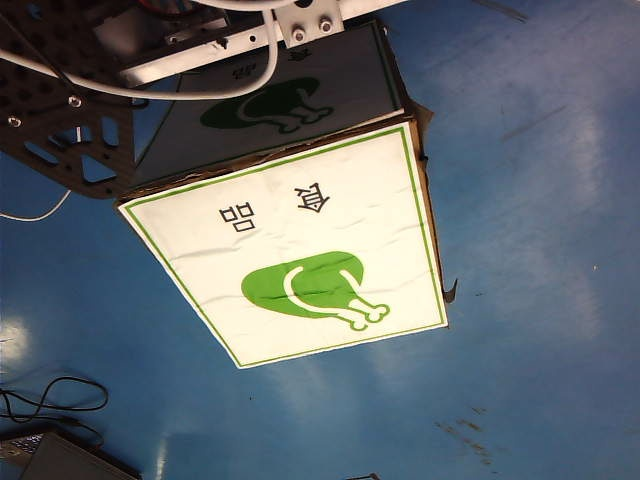Cube_food: (195, 176, 414, 340)
